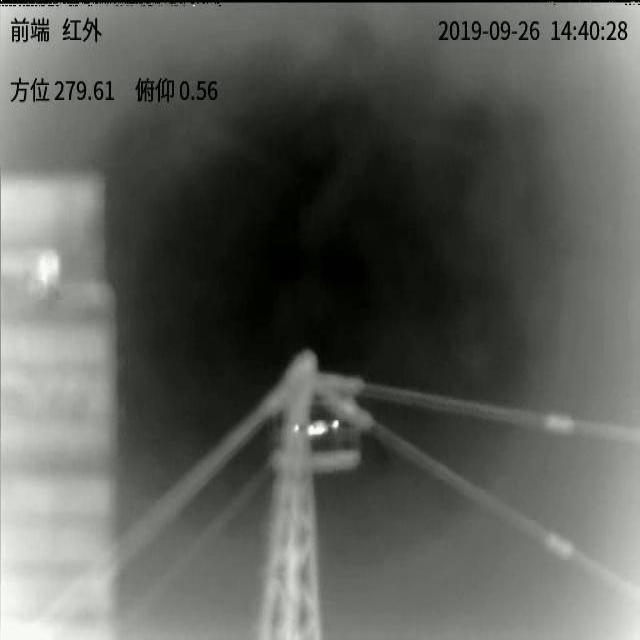drone: (293, 419, 340, 438)
